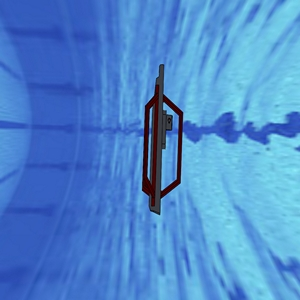submarine: (110, 46, 200, 225)
